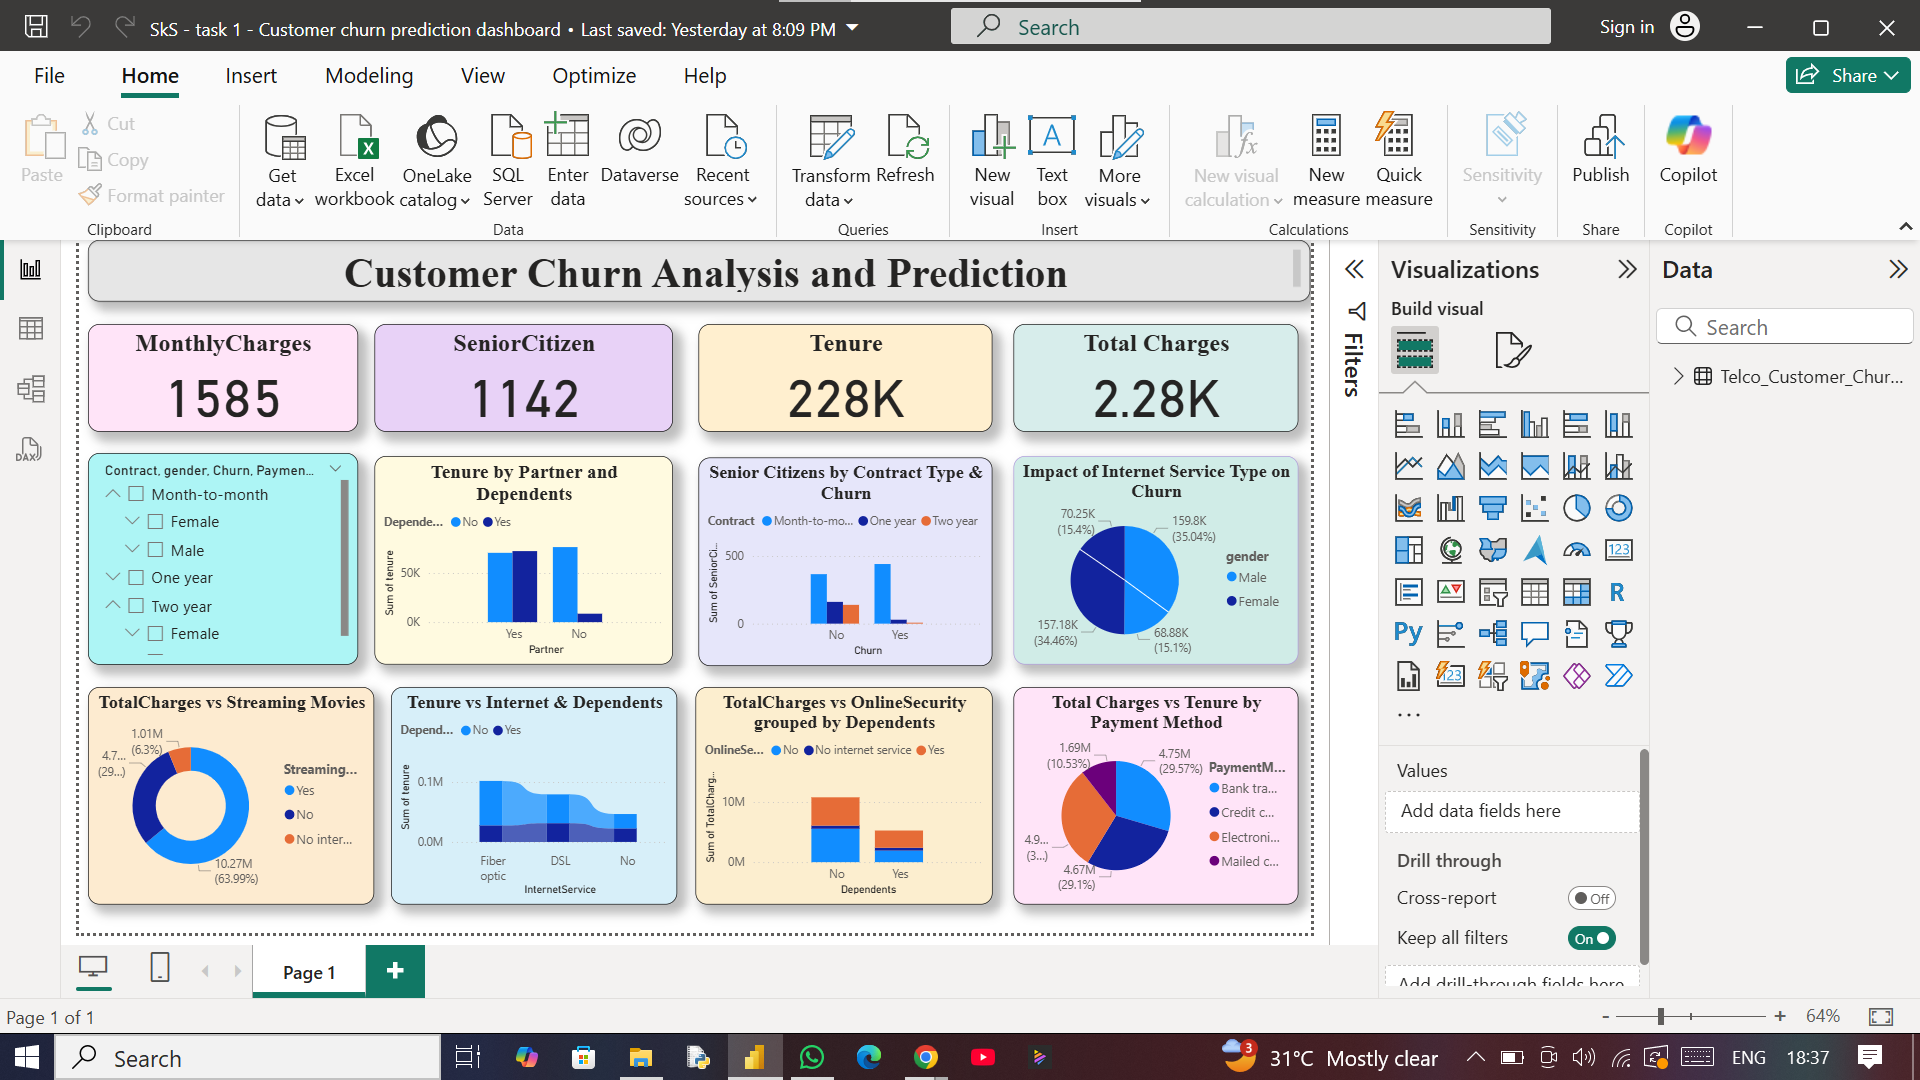

The dashboard page shown, as its layout file describes it:
{"tool":"powerbi","page":{"name":"Page 1","canvas":[1280,720],"ordinal":0},"visuals":[{"type":"textbox","box":[9.4,0,1270.1,63.9],"z":0},{"type":"card","title":"MonthlyCharges","fields":{"Values":["Telco_Customer_Churn_Dataset  (2).MonthlyCharges"]},"box":[9.4,87.3,280.5,112.2],"z":1000},{"type":"card","title":"SeniorCitizen","fields":{"Values":["Telco_Customer_Churn_Dataset  (2).SeniorCitizen"]},"box":[307,87.3,310.1,112.2],"z":2000},{"type":"card","title":"Tenure","fields":{"Values":["Telco_Customer_Churn_Dataset  (2).tenure"]},"box":[643.6,87.3,305.5,112.2],"z":3000},{"type":"card","title":"Total Charges","fields":{"Values":["Telco_Customer_Churn_Dataset  (2).TotalCharges"]},"box":[970.9,87.3,296.1,112.2],"z":4000},{"type":"slicer","fields":{"Values":["Telco_Customer_Churn_Dataset  (2).Contract","Telco_Customer_Churn_Dataset  (2).gender","Telco_Customer_Churn_Dataset  (2).Churn","Telco_Customer_Churn_Dataset  (2).PaymentMethod","Telco_Customer_Churn_Dataset  (2).SeniorCitizen","Telco_Customer_Churn_Dataset  (2).InternetService"]},"box":[9.4,221.3,280.5,219.7],"z":5000},{"type":"pieChart","title":"Impact of Internet Service Type on Churn","fields":{"Category":["Telco_Customer_Churn_Dataset  (2).gender"],"Y":["Telco_Customer_Churn_Dataset  (2).MonthlyCharges"],"Series":["Telco_Customer_Churn_Dataset  (2).Churn"]},"box":[970.9,224.4,296.1,216.6],"z":6000},{"type":"clusteredColumnChart","title":"Tenure by Partner and Dependents","fields":{"Category":["Telco_Customer_Churn_Dataset  (2).Partner"],"Y":["Telco_Customer_Churn_Dataset  (2).tenure"],"Series":["Telco_Customer_Churn_Dataset  (2).Dependents"]},"box":[307,224.4,310.1,216.6],"z":7000},{"type":"lineClusteredColumnComboChart","title":"Senior Citizens by Contract Type & Churn","fields":{"Y":["Telco_Customer_Churn_Dataset  (2).SeniorCitizen"],"Category":["Telco_Customer_Churn_Dataset  (2).Churn"],"Series":["Telco_Customer_Churn_Dataset  (2).Contract"]},"box":[643.6,226,305.5,216.6],"z":8000},{"type":"donutChart","title":"TotalCharges vs Streaming Movies","fields":{"Y":["Telco_Customer_Churn_Dataset  (2).TotalCharges"],"Category":["Telco_Customer_Churn_Dataset  (2).StreamingMovies"]},"box":[9.4,464.4,297.7,226],"z":9000},{"type":"ribbonChart","title":"Tenure vs Internet & Dependents","fields":{"Category":["Telco_Customer_Churn_Dataset  (2).InternetService"],"Y":["Telco_Customer_Churn_Dataset  (2).tenure"],"Series":["Telco_Customer_Churn_Dataset  (2).Dependents"]},"box":[324.2,464.4,297.7,226],"z":10000},{"type":"lineStackedColumnComboChart","title":"TotalCharges vs OnlineSecurity grouped by Dependents","fields":{"Y":["Telco_Customer_Churn_Dataset  (2).TotalCharges"],"Category":["Telco_Customer_Churn_Dataset  (2).Dependents"],"Series":["Telco_Customer_Churn_Dataset  (2).OnlineSecurity"]},"box":[640.5,464.4,308.6,226],"z":11000},{"type":"pieChart","title":"Total Charges vs Tenure by Payment Method","fields":{"Y":["Telco_Customer_Churn_Dataset  (2).TotalCharges"],"Series":["Telco_Customer_Churn_Dataset  (2).PaymentMethod"]},"box":[970.9,464.4,296.1,226],"z":12000}]}

Visuals, with their boxes on the page's 1280x720 design canvas (x1, y1, x2, y2). These are canvas units, not pixel positions in the 1920x1080 screenshot, which may show the page scaled, cropped or inside an application window:
textbox: x1=9, y1=0, x2=1280, y2=64
"MonthlyCharges" card: x1=9, y1=87, x2=290, y2=200
"SeniorCitizen" card: x1=307, y1=87, x2=617, y2=200
"Tenure" card: x1=644, y1=87, x2=949, y2=200
"Total Charges" card: x1=971, y1=87, x2=1267, y2=200
slicer - Telco_Customer_Churn_Dataset  (2).Contract x Telco_Customer_Churn_Dataset  (2).gender: x1=9, y1=221, x2=290, y2=441
"Impact of Internet Service Type on Churn" pieChart: x1=971, y1=224, x2=1267, y2=441
"Tenure by Partner and Dependents" clusteredColumnChart: x1=307, y1=224, x2=617, y2=441
"Senior Citizens by Contract Type & Churn" lineClusteredColumnComboChart: x1=644, y1=226, x2=949, y2=443
"TotalCharges vs Streaming Movies" donutChart: x1=9, y1=464, x2=307, y2=690
"Tenure vs Internet & Dependents" ribbonChart: x1=324, y1=464, x2=622, y2=690
"TotalCharges vs OnlineSecurity grouped by Dependents" lineStackedColumnComboChart: x1=640, y1=464, x2=949, y2=690
"Total Charges vs Tenure by Payment Method" pieChart: x1=971, y1=464, x2=1267, y2=690
